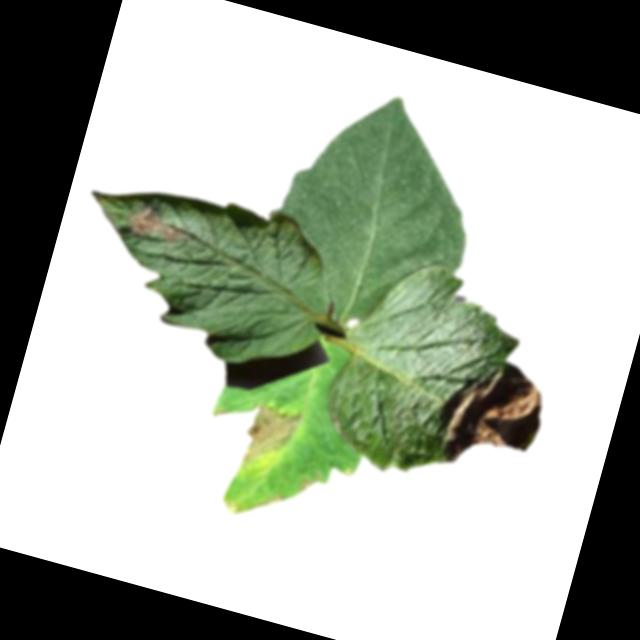Late_blight: (425, 348, 553, 482), (231, 398, 304, 476), (124, 198, 200, 254)
healthy: (248, 71, 502, 349)
